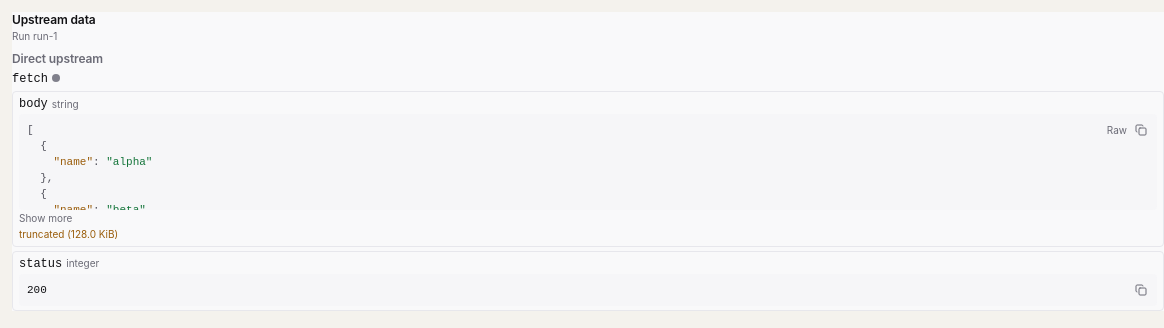
Test: UpstreamDataPanel actions › copies the reference and swaps the name to a Check when no field takes it
Click the button "body" at (33, 104), box [19,96,48,112]
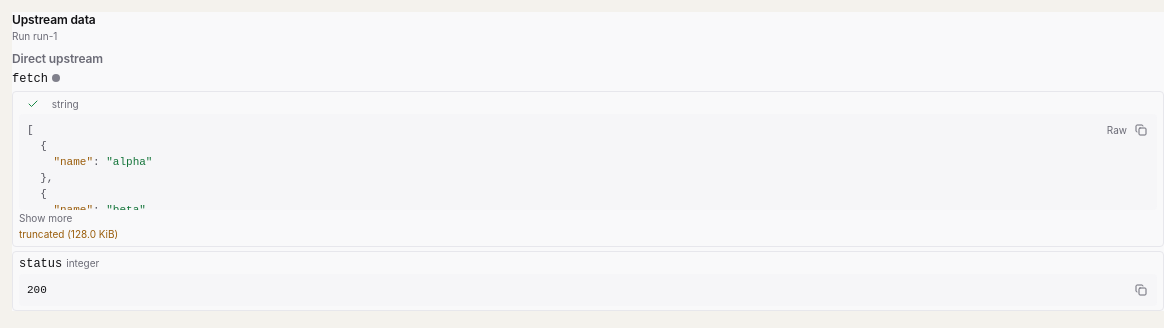
Check: the icon next to "string" is shown, box [27,98,39,110]
